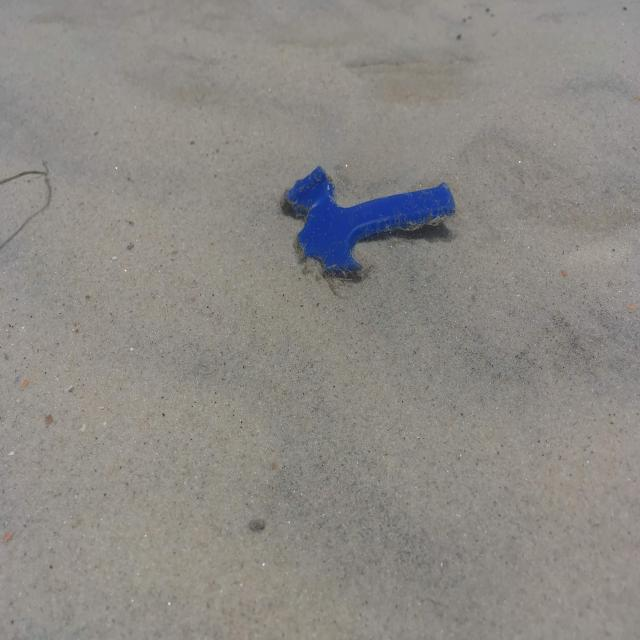litter: (286, 162, 457, 273)
